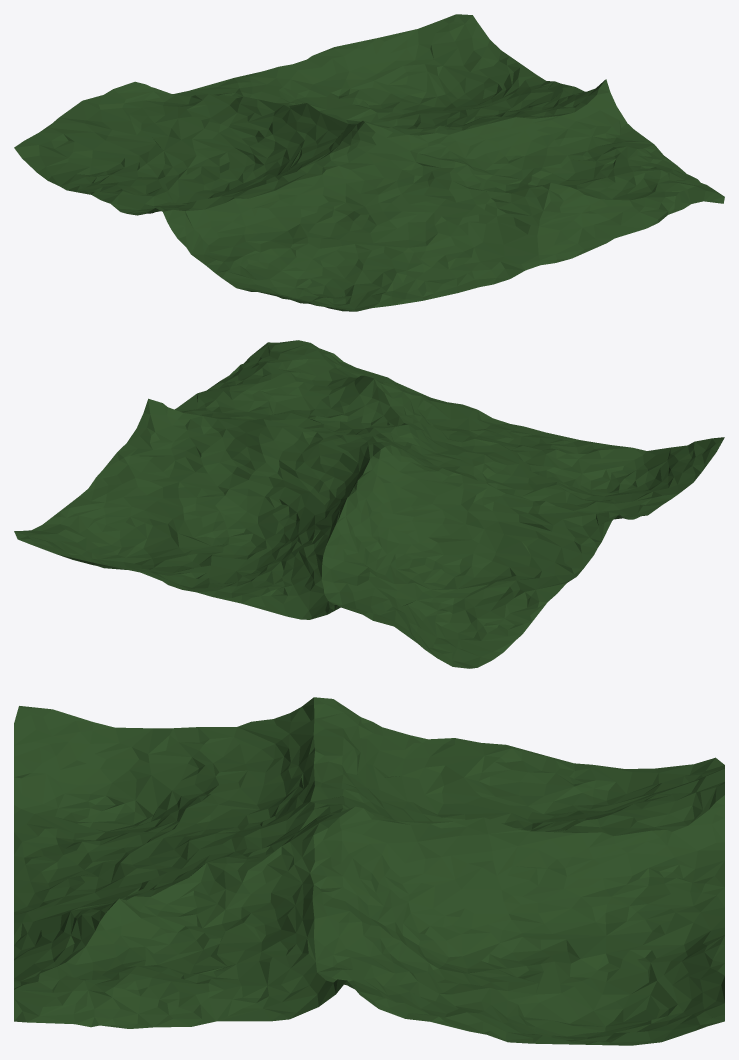
File: SM_landscape_09.fbx
3 views of the same model, one above another, from view 1: azimuth 30°, elevation 25°; view 2: azimuth 150°, elevation 25°; view 3: azimuth 270°, elevation 25° (orthographic). The views are drawn at different scales.
Parts seen in each view (by area): view 1: landscape_09; view 2: landscape_09; view 3: landscape_09.
Part boxes in pixels (x1,y1,x2,y2): landscape_09: (14,14,724,311); landscape_09: (14,340,724,668); landscape_09: (14,697,724,1045).
Size of the model in its own units: 2224 by 390 by 2224.
